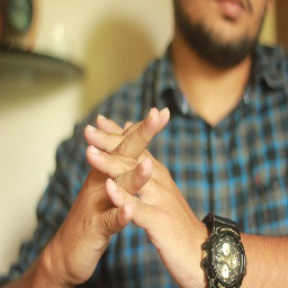W: (72, 92, 181, 257)
